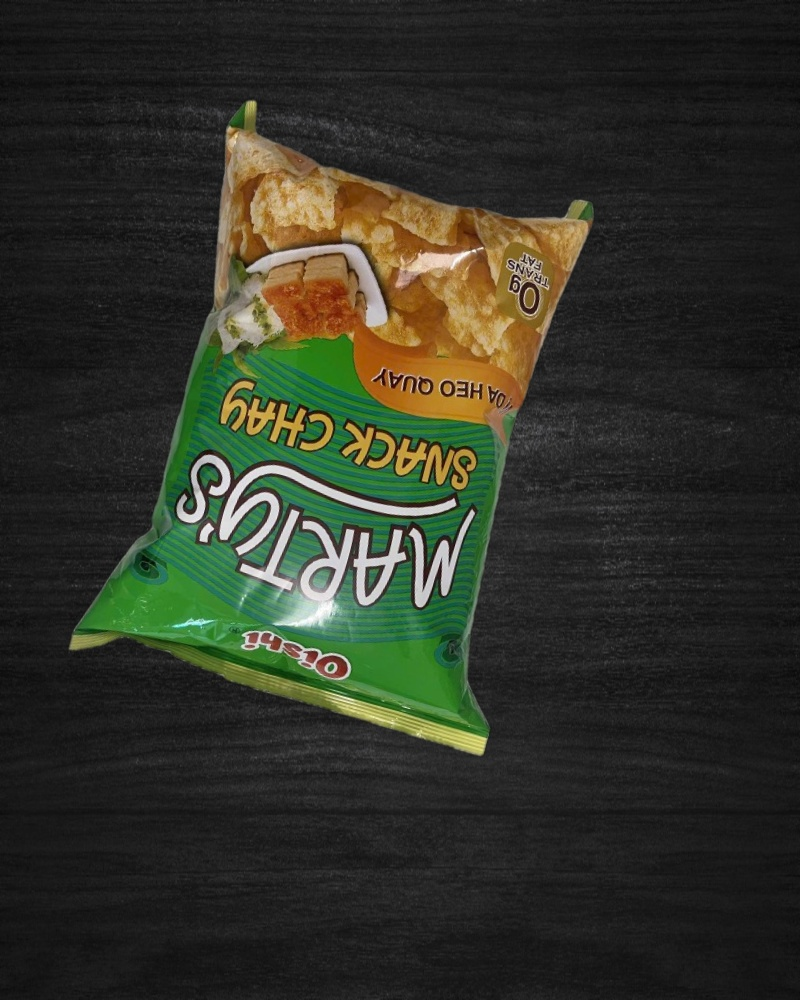Snack chay: (88, 98, 630, 761)
